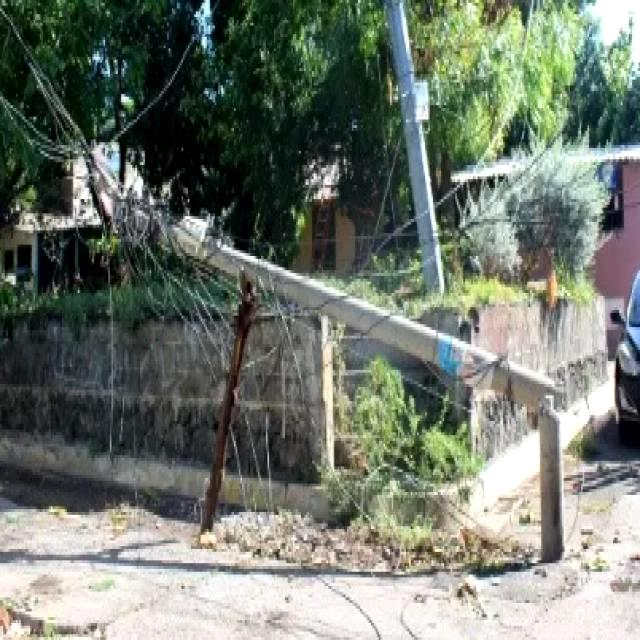Broken Pole: (99, 186, 567, 561)
